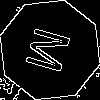M: (25, 25, 80, 78)
